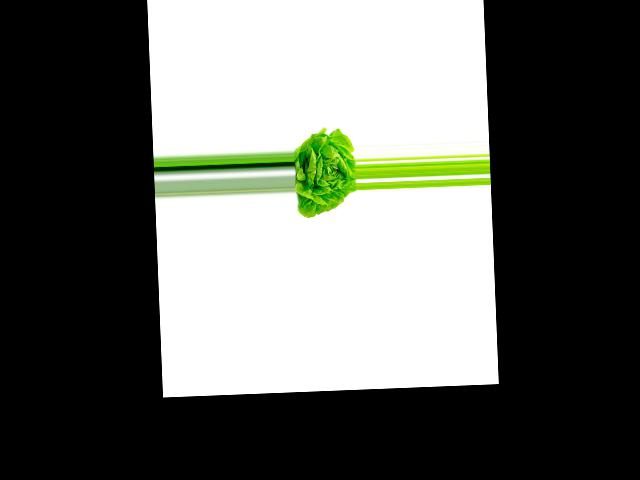lettuce: (292, 130, 357, 220)
